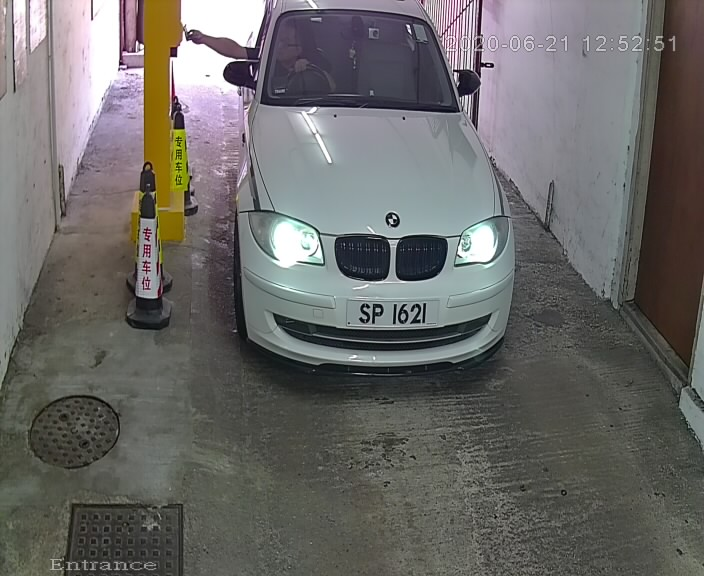privatecar: (199, 1, 524, 397)
